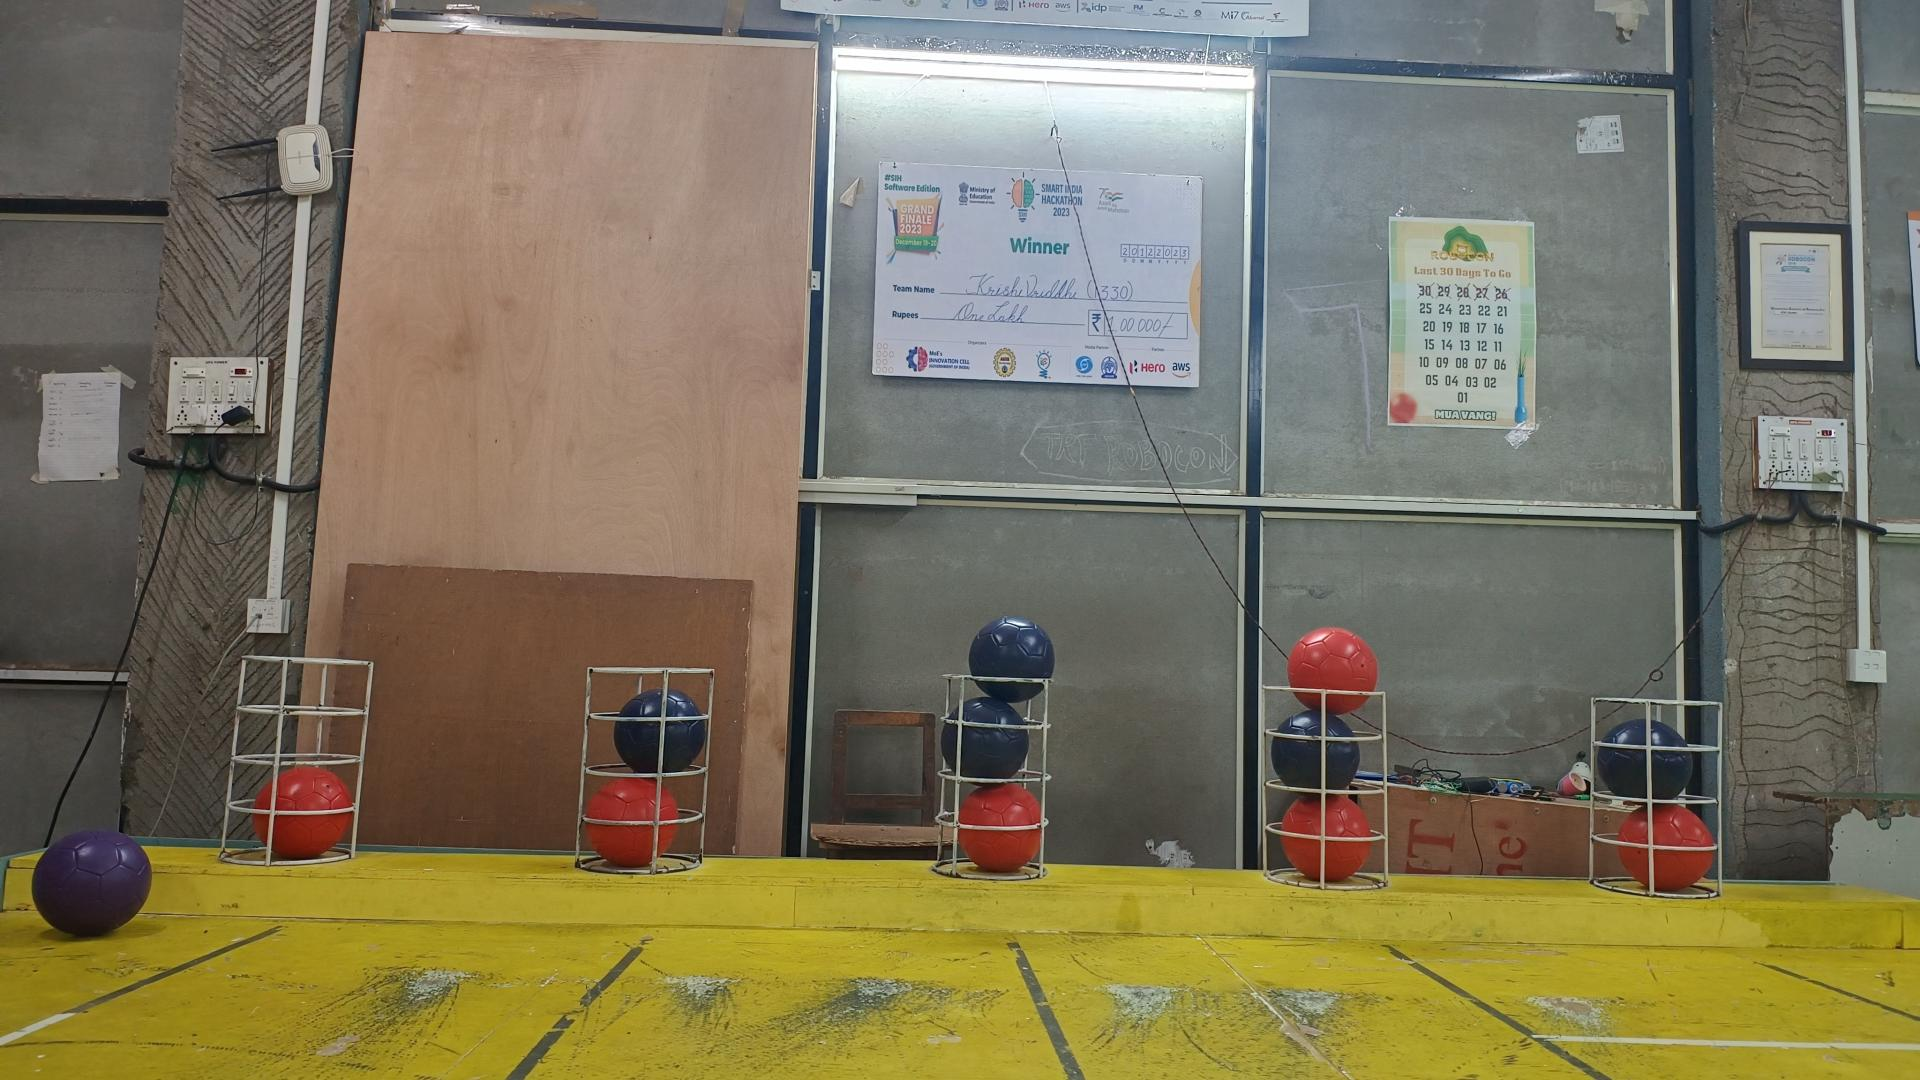dhoka: (1597, 715, 1692, 800), (615, 686, 704, 771), (1271, 708, 1362, 790), (968, 616, 1054, 702), (942, 695, 1027, 777)
laale: (251, 766, 352, 860), (1619, 800, 1713, 891), (585, 777, 679, 866), (1280, 795, 1370, 881), (1287, 626, 1377, 712), (960, 782, 1042, 872)
